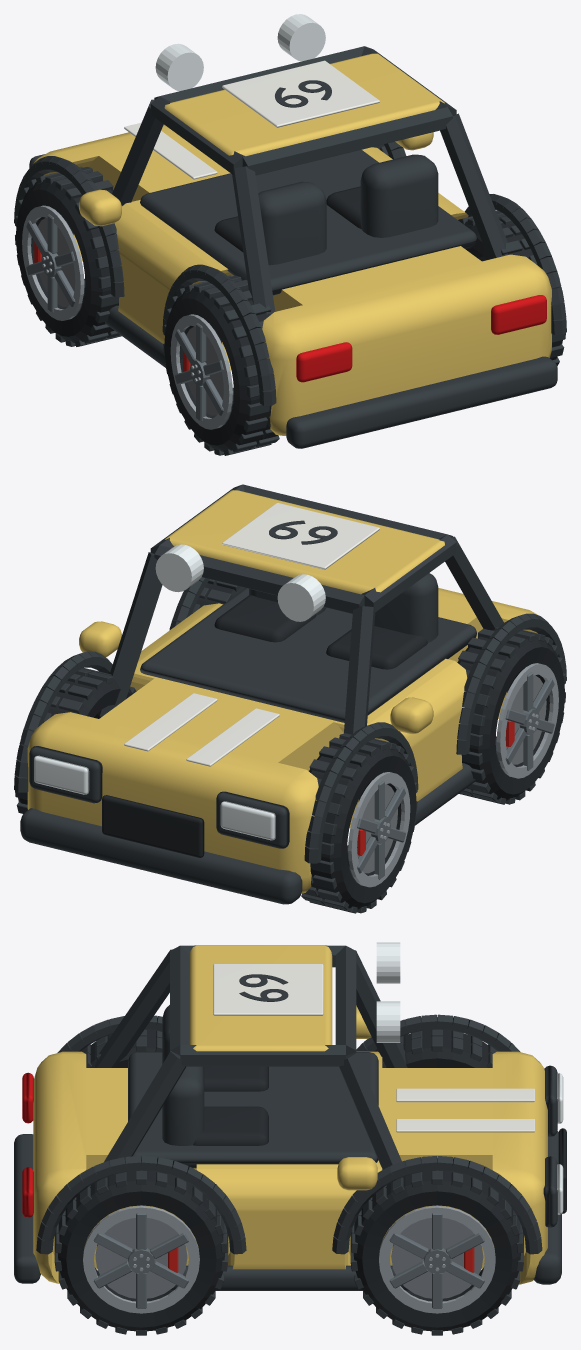
The model's file is car_buggy.glb.
The picture shows the model from 3 angles, top to bottom: view 1: azimuth 30°, elevation 25°; view 2: azimuth 150°, elevation 25°; view 3: azimuth 270°, elevation 25°; orthographic projection.
Visible parts, largest first — view 1: Body.007, WheelMesh.030, WheelMesh.028, WheelMesh.031; view 2: Body.007, WheelMesh.028, WheelMesh.030, WheelMesh.029, WheelMesh.031; view 3: Body.007, WheelMesh.031, WheelMesh.029, WheelMesh.028, WheelMesh.030.
Part boxes in pixels (x1,y1,x2,y2): Body.007: (14, 14, 566, 448); WheelMesh.030: (163, 275, 279, 455); WheelMesh.028: (15, 166, 121, 346); WheelMesh.031: (458, 210, 565, 366); Body.007: (14, 484, 566, 904); WheelMesh.028: (301, 733, 417, 913); WheelMesh.030: (457, 627, 565, 804); WheelMesh.029: (15, 668, 136, 813); WheelMesh.031: (169, 579, 245, 628); Body.007: (14, 942, 566, 1290); WheelMesh.031: (54, 1158, 228, 1335); WheelMesh.029: (350, 1170, 523, 1335); WheelMesh.028: (377, 1029, 497, 1067); WheelMesh.030: (81, 1029, 162, 1067).
Bounding box in the file's own units: 2.64 × 2.11 × 3.71.
